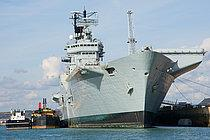MIL_Ship: (53, 7, 205, 130)
